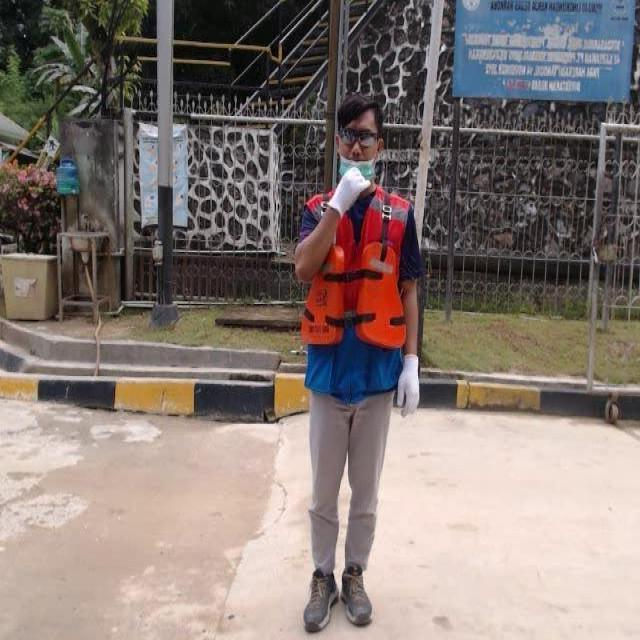safety_vest: (297, 186, 413, 398)
